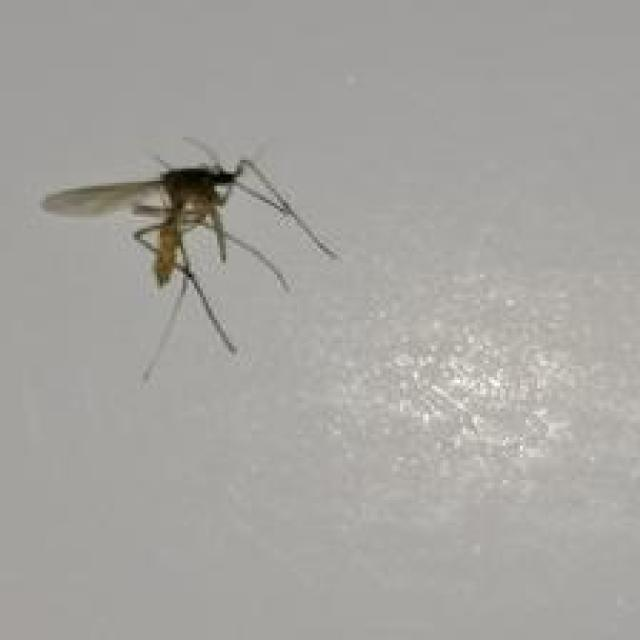Culex: (40, 134, 340, 383)
